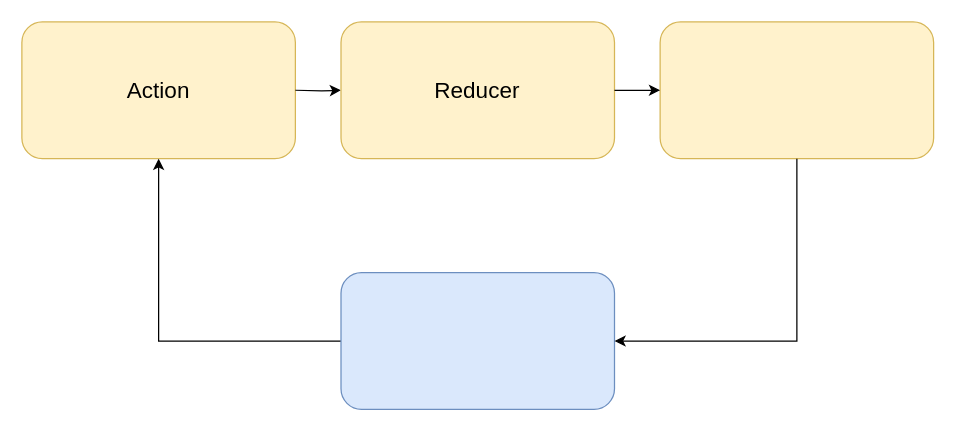
Image size: 956x431. Some labels were removed from this diagram. The centre of each missing label's shape, as x and y in pixels:
Component: point (477, 340)
Store: point (796, 90)
